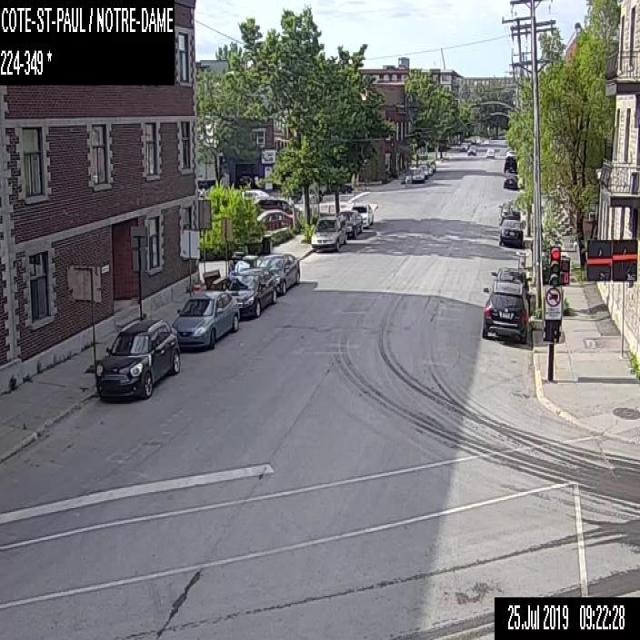vehicle: (94, 318, 178, 403), (172, 290, 238, 349), (482, 280, 532, 344), (224, 266, 276, 317), (257, 252, 299, 294), (310, 214, 346, 252), (491, 265, 532, 285), (334, 209, 362, 236), (498, 218, 522, 248), (256, 208, 292, 228), (253, 197, 299, 211), (349, 202, 373, 227), (497, 200, 520, 224), (502, 172, 518, 189), (502, 155, 517, 171), (242, 189, 268, 197), (411, 167, 423, 182), (339, 182, 353, 194), (418, 164, 428, 179), (466, 144, 476, 155), (429, 160, 436, 171), (485, 148, 494, 156), (505, 150, 516, 156), (459, 141, 466, 150), (427, 164, 432, 174)
